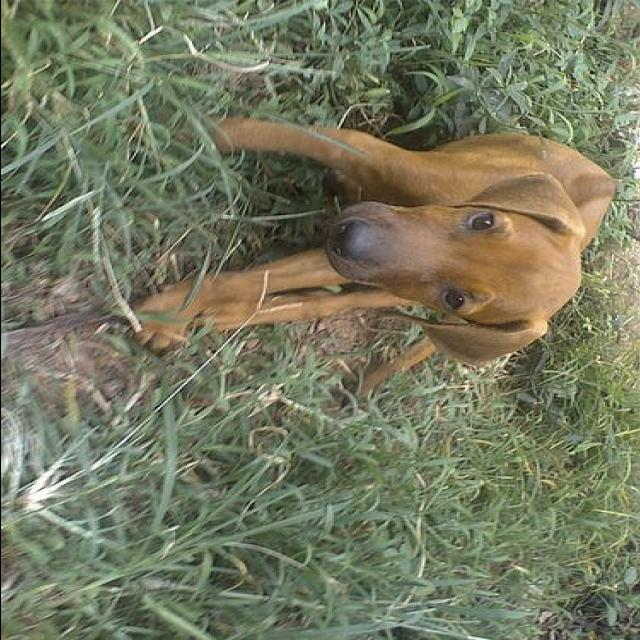rhodesian_ridgeback: (122, 118, 614, 404)
